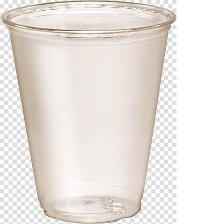glass: (0, 0, 179, 224)
